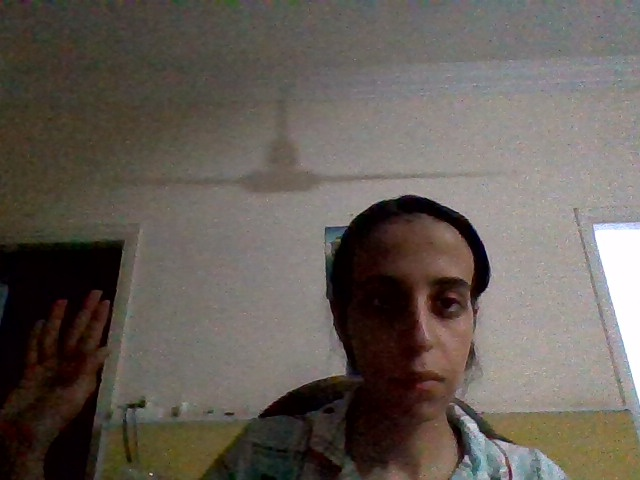LiveLong: (1, 287, 113, 470)
